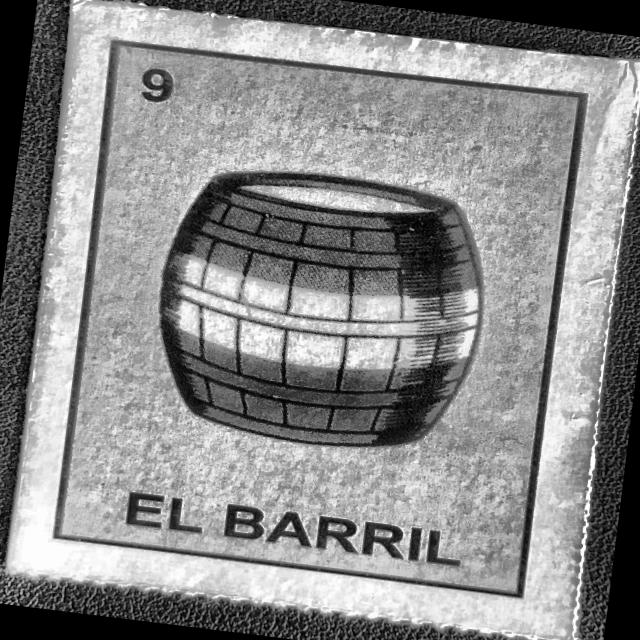El Barril: (21, 8, 627, 632)
